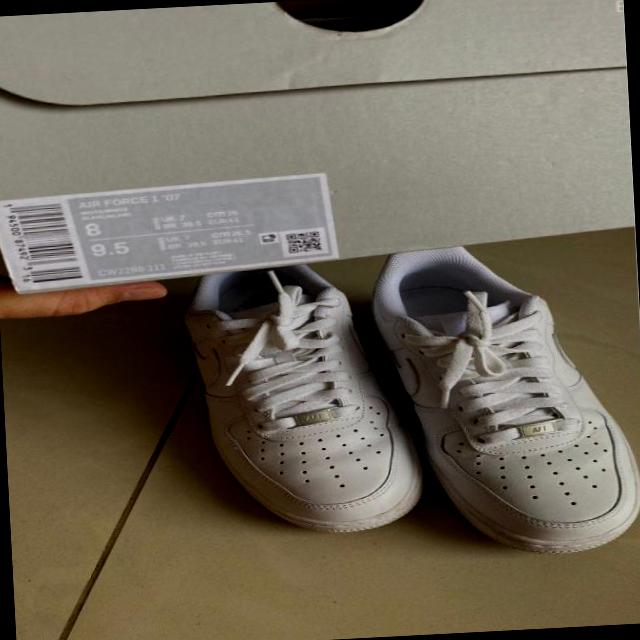nike_original_airforce: (361, 243, 640, 561), (172, 262, 433, 544)
